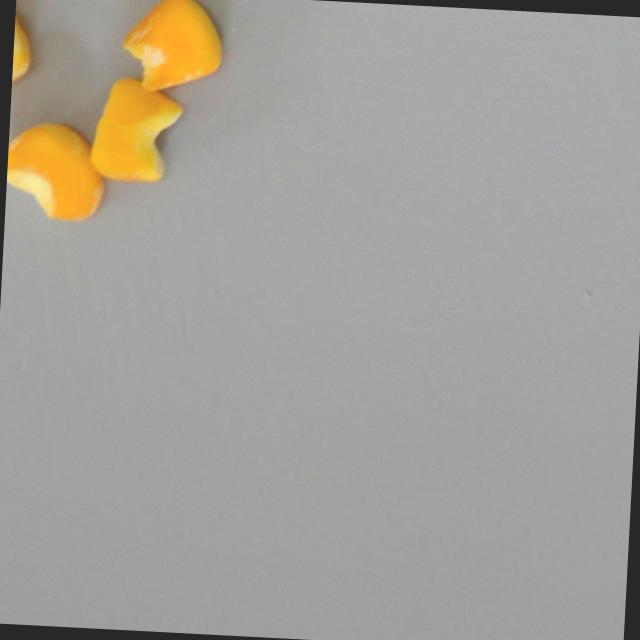no_canjicado: (88, 73, 186, 182)
pelicula: (5, 119, 108, 222), (120, 0, 225, 94), (11, 0, 35, 109)
